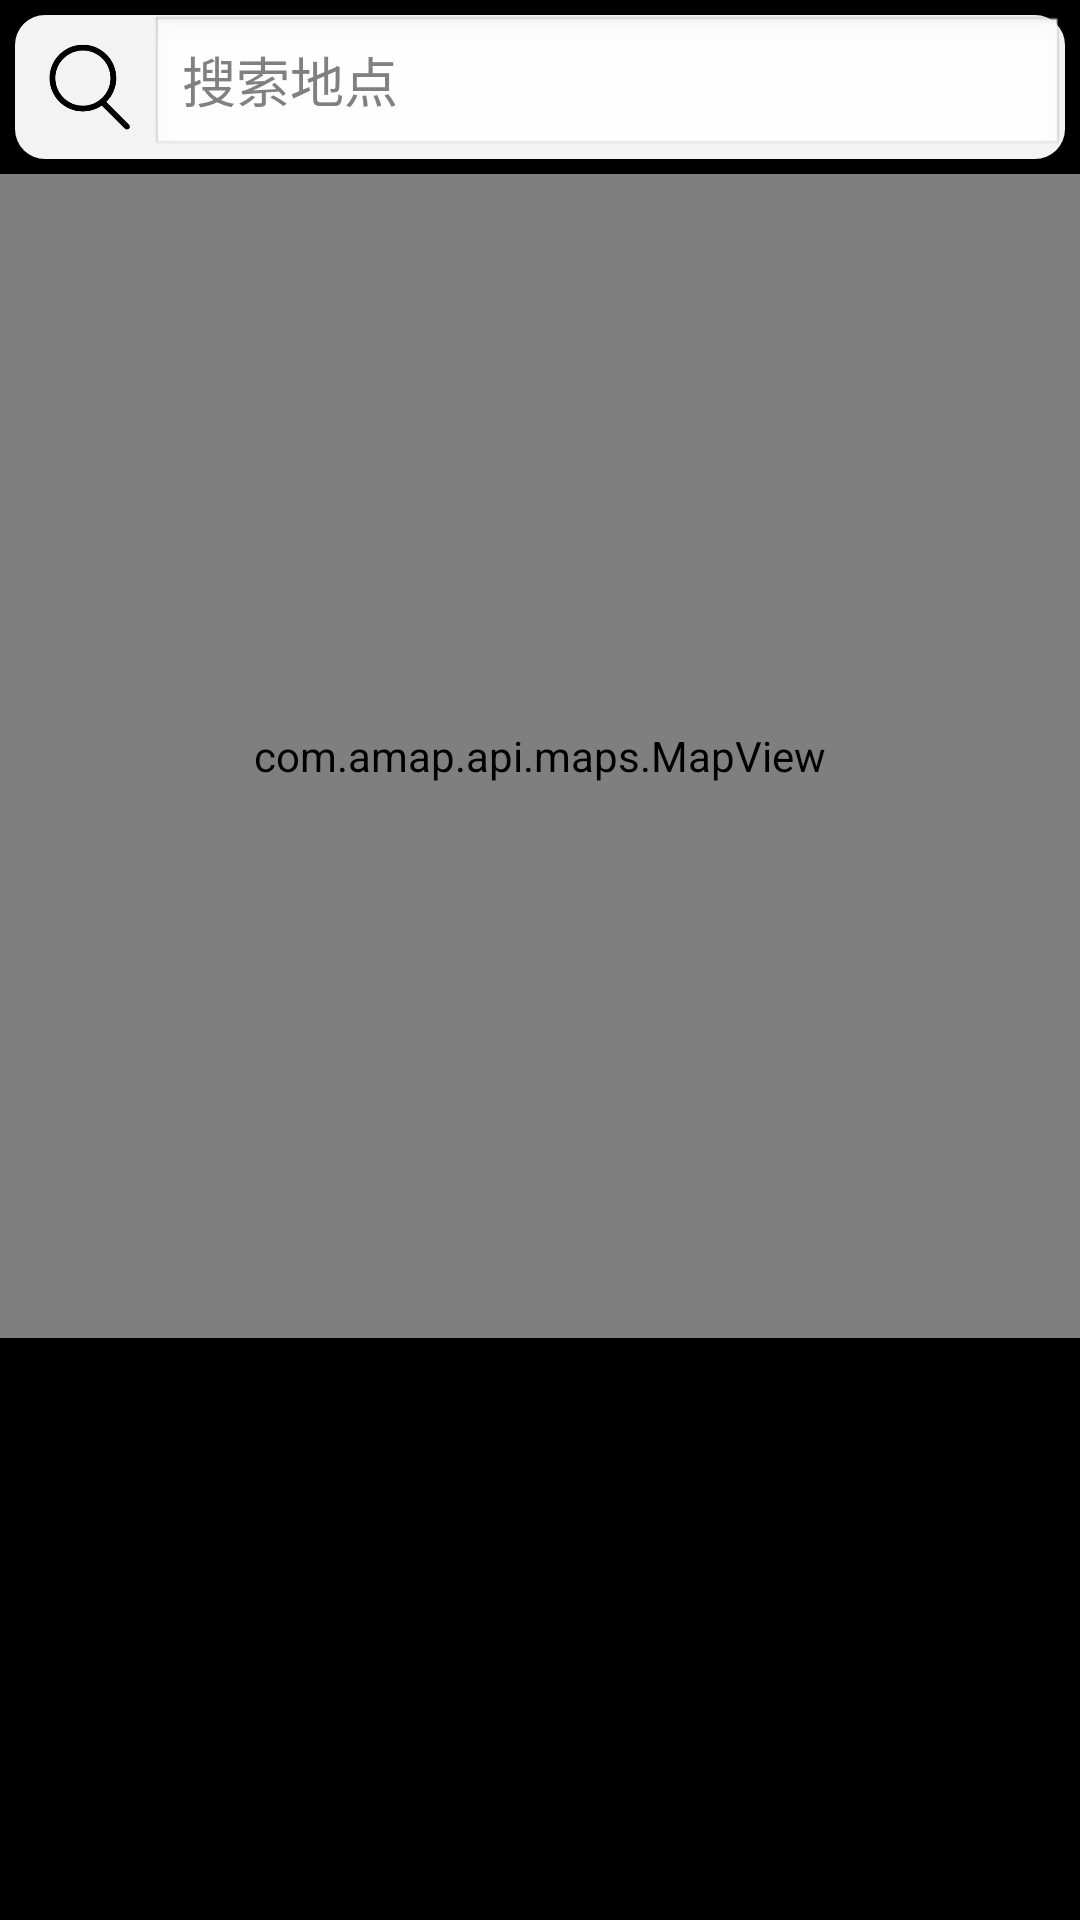

Screen size 1080 × 1920. Icon name, then its box in pixels as (x1,y1,x2,y2):
search: (49,45,130,130)
